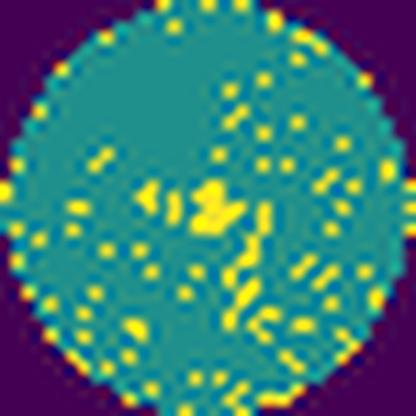Center: (189, 176, 251, 240)
